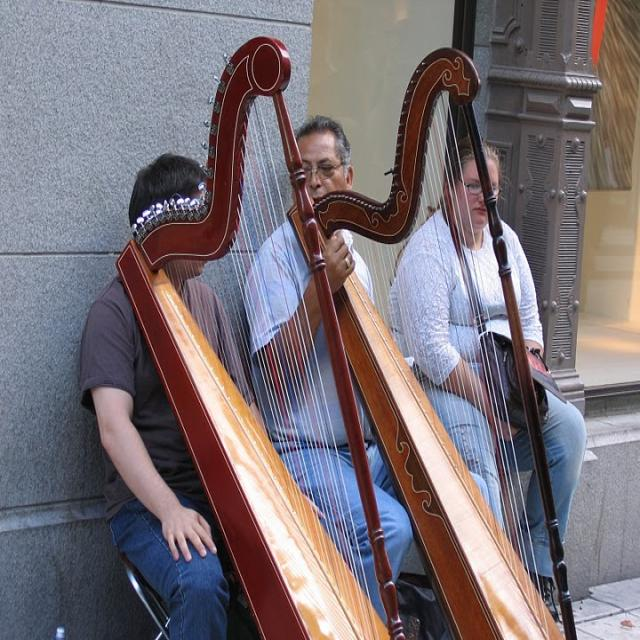harp: (113, 32, 415, 638), (285, 48, 587, 639)
